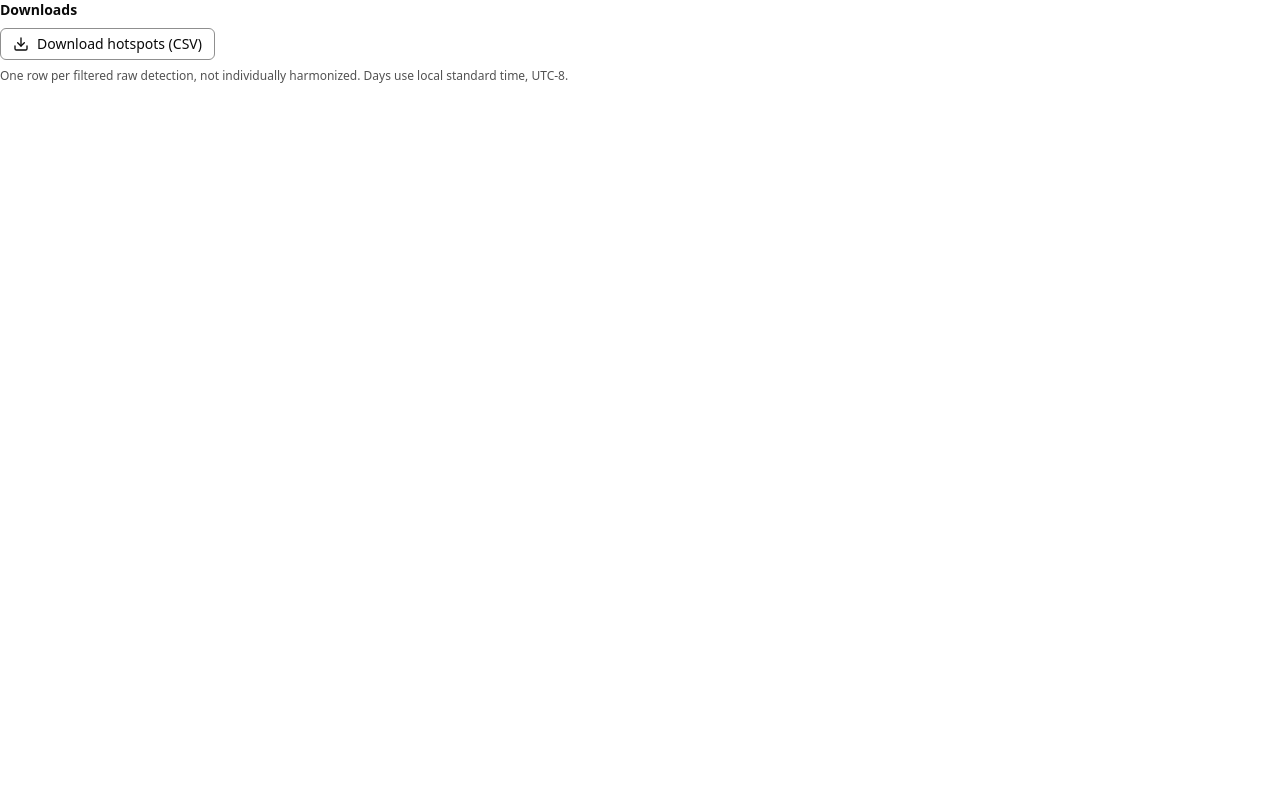
DownloadsMenu with the Blob fallback › shows the message of the error envelope and saves nothing
The width and height of the screenshot is (1280, 800).
Click the button "Download hotspots (CSV)": (108, 44) [0,28,215,60]
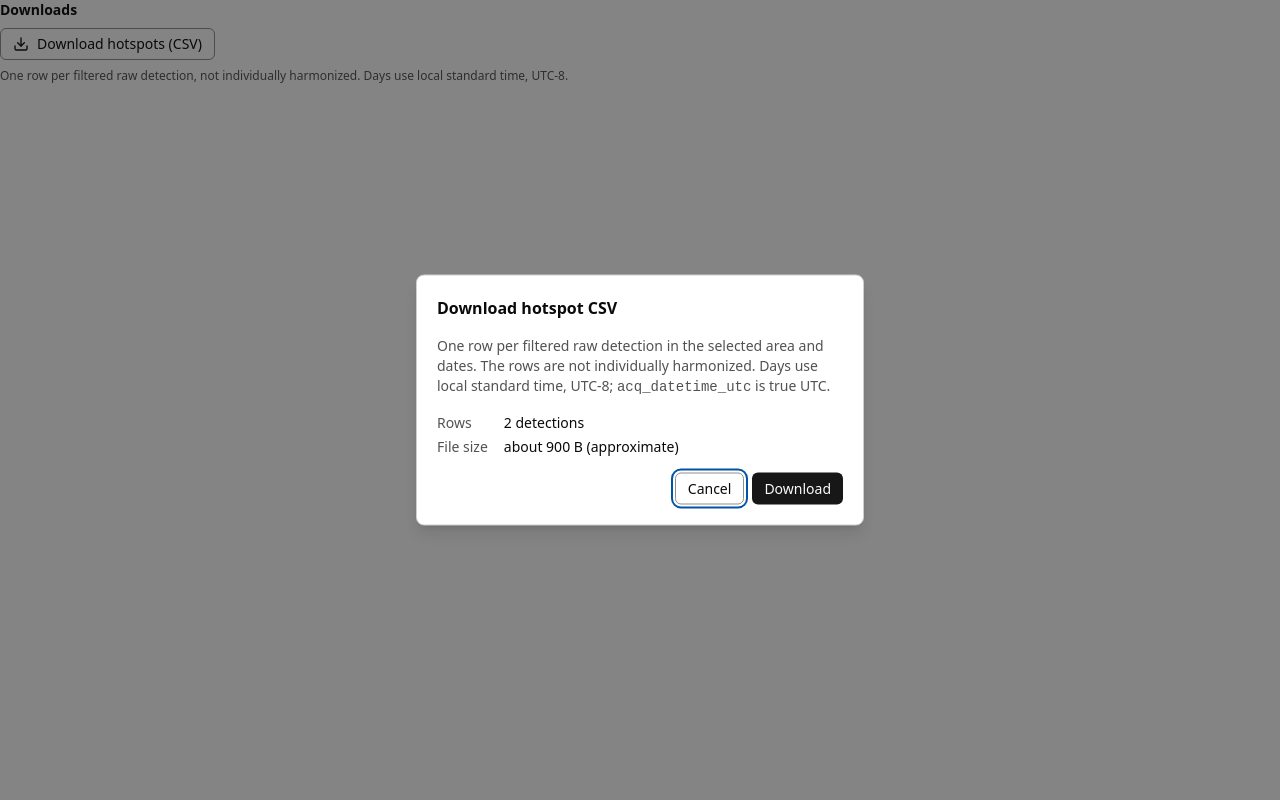
Click the button "Download": (798, 488) [752,472,843,504]
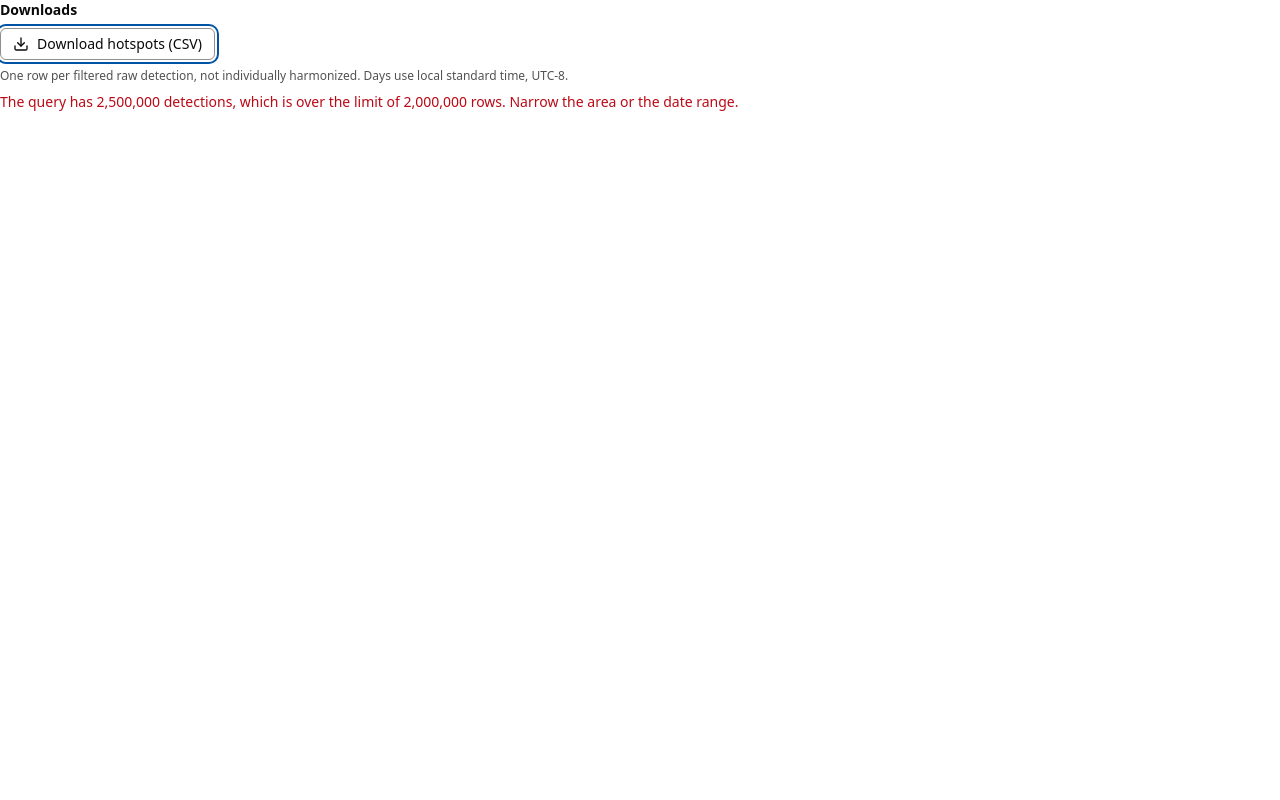
Now the message with test id "download-status" shows "2,500,000 detections", box [0,92,738,111]
Now the message with test id "download-status" shows "2,000,000 rows", box [0,92,738,111]
